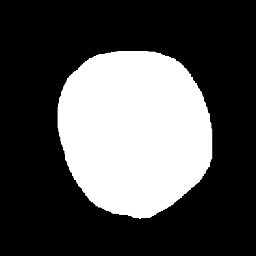mass: (63, 53, 218, 210)
